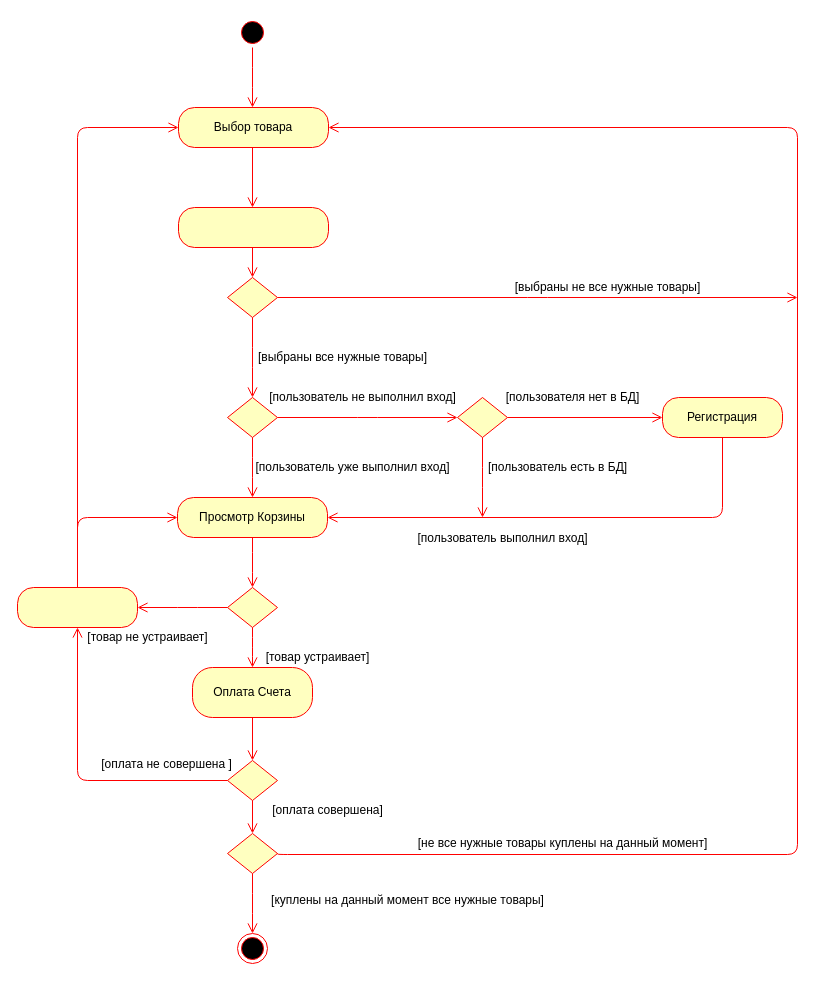
The diagram is 825 pixels wide and 981 high, and some of its shapes have lost their labels. The centre of each missing label's shape, as x and y in pixels:
Пользователь удаляет товар: point (77, 607)
Помещение товара в Корзину: point (253, 227)
